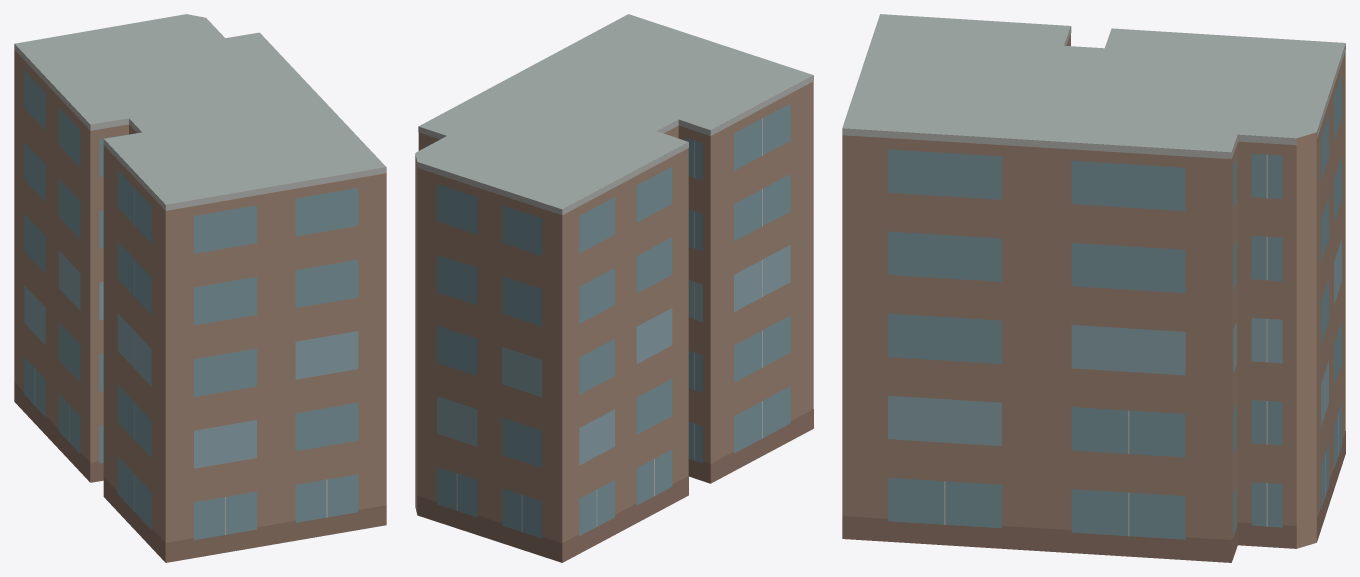
The model's file is survey-upis-32667784.glb.
3 renders of one model, left to right at view 1: azimuth 30°, elevation 25°; view 2: azimuth 150°, elevation 25°; view 3: azimuth 270°, elevation 25°, orthographic. The views are drawn at different scales.
Visible parts, largest first — view 1: survey-upis-32667784.tmp; view 2: survey-upis-32667784.tmp; view 3: survey-upis-32667784.tmp.
Boxes of the visible parts, bbox=[...] form: survey-upis-32667784.tmp: bbox=[14, 14, 386, 562]; survey-upis-32667784.tmp: bbox=[415, 14, 813, 562]; survey-upis-32667784.tmp: bbox=[842, 14, 1345, 562].
Bounding box in the file's own units: 10.49 × 14.5 × 16.13.
